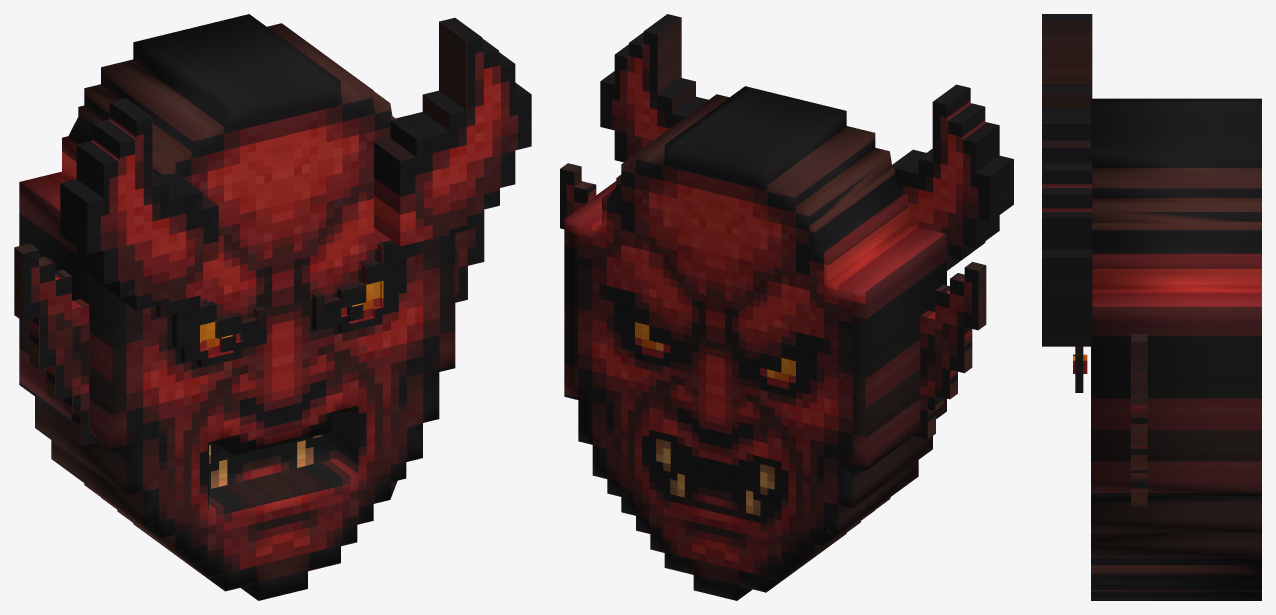
File: Diablo_01.fbx
The picture shows the model from 3 angles, left to right: view 1: azimuth 30°, elevation 25°; view 2: azimuth 150°, elevation 25°; view 3: azimuth 270°, elevation 25°; orthographic projection. The views are drawn at different scales.
Parts seen in each view (by area): view 1: Face, Horns, Ears, Eyes; view 2: Face, Horns, Ears; view 3: Face, Horns, Ears, Eyes.
Boxes of the visible parts, left/top/right/bottom form: Face: left=19, top=14, right=455, bottom=600; Horns: left=60, top=17, right=531, bottom=310; Ears: left=14, top=188, right=499, bottom=445; Eyes: left=156, top=240, right=423, bottom=367; Face: left=564, top=86, right=946, bottom=600; Horns: left=600, top=14, right=1013, bottom=270; Ears: left=560, top=163, right=986, bottom=439; Face: left=1091, top=98, right=1261, bottom=600; Horns: left=1042, top=14, right=1092, bottom=346; Ears: left=1131, top=334, right=1147, bottom=506; Eyes: left=1075, top=346, right=1083, bottom=392.
Size of the model in its own units: 452 by 484 by 194.
Materials: 1 (1 with a texture image).
